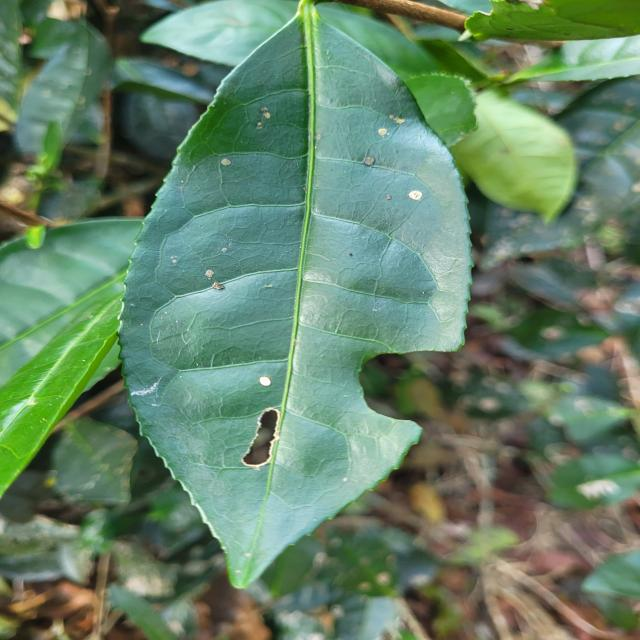Category D 7+ days, Not for Tea: (104, 0, 492, 606)
